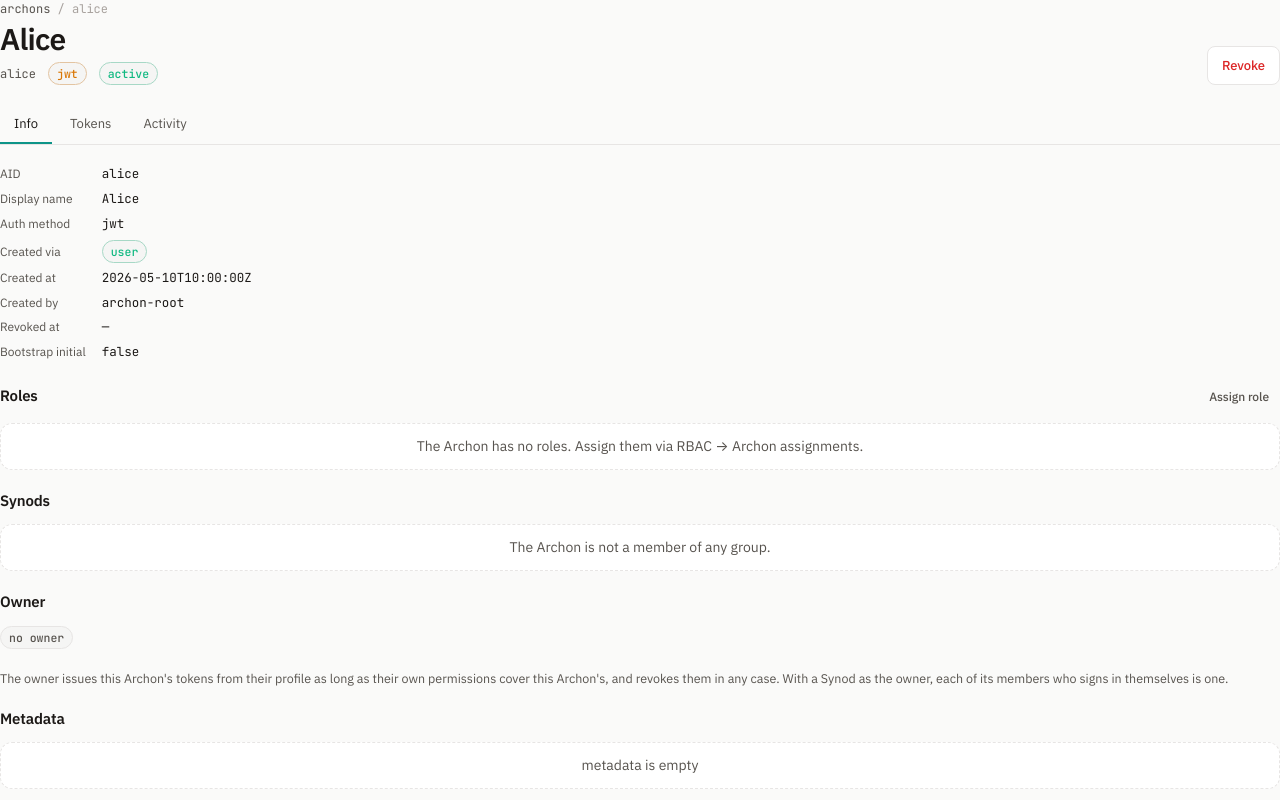
Operator card → Tokens › lists every kind of the operator’s tokens, sign-ins included, and revokes one
This screenshot has width=1280, height=800.
What coordinates should you click on to do the following:
click the tab with test id "archon-tab-tokens"
I would click on:
 (91, 125)
Its box is top-left (56, 105), bottom-right (125, 144).
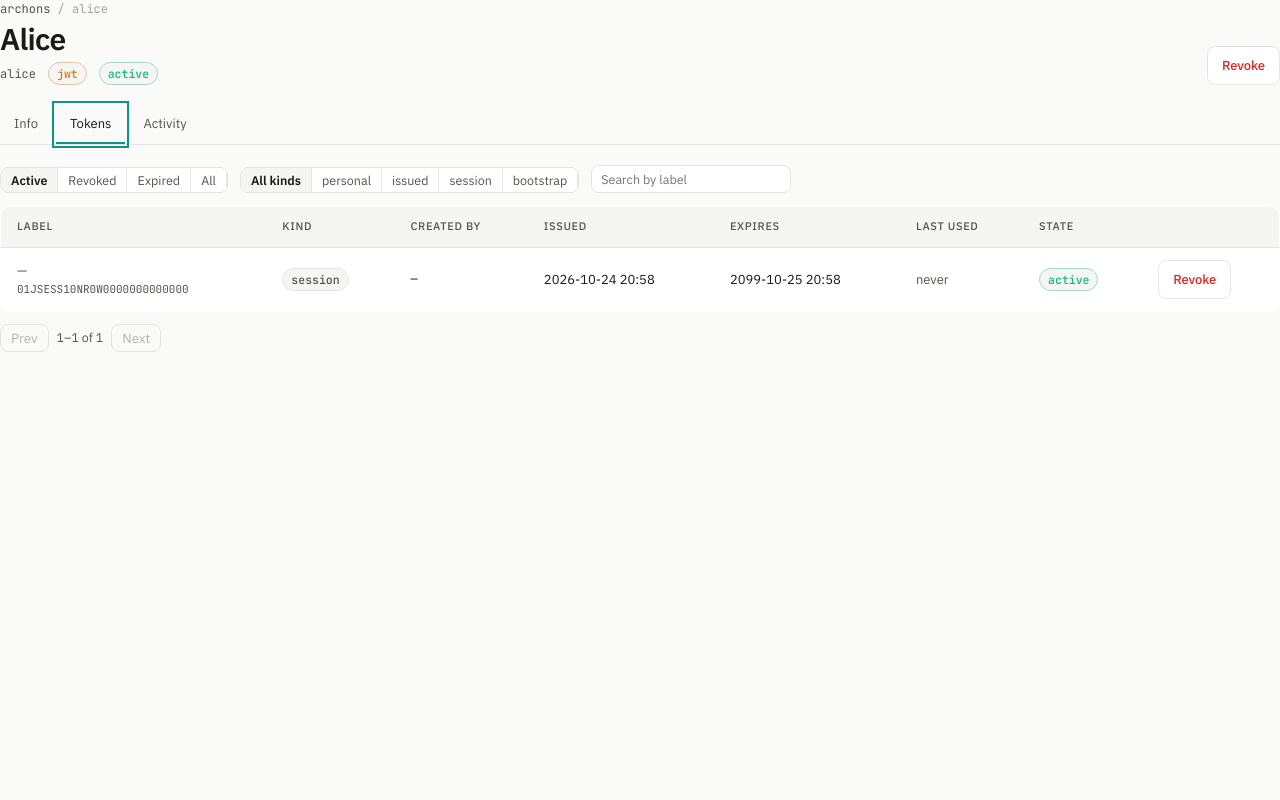
What coordinates should you click on to do the following:
click the button "Revoke" in the row of "01JSESS10NR0W0000000000000"
I would click on:
 (1195, 279)
Its box is top-left (1158, 260), bottom-right (1231, 299).
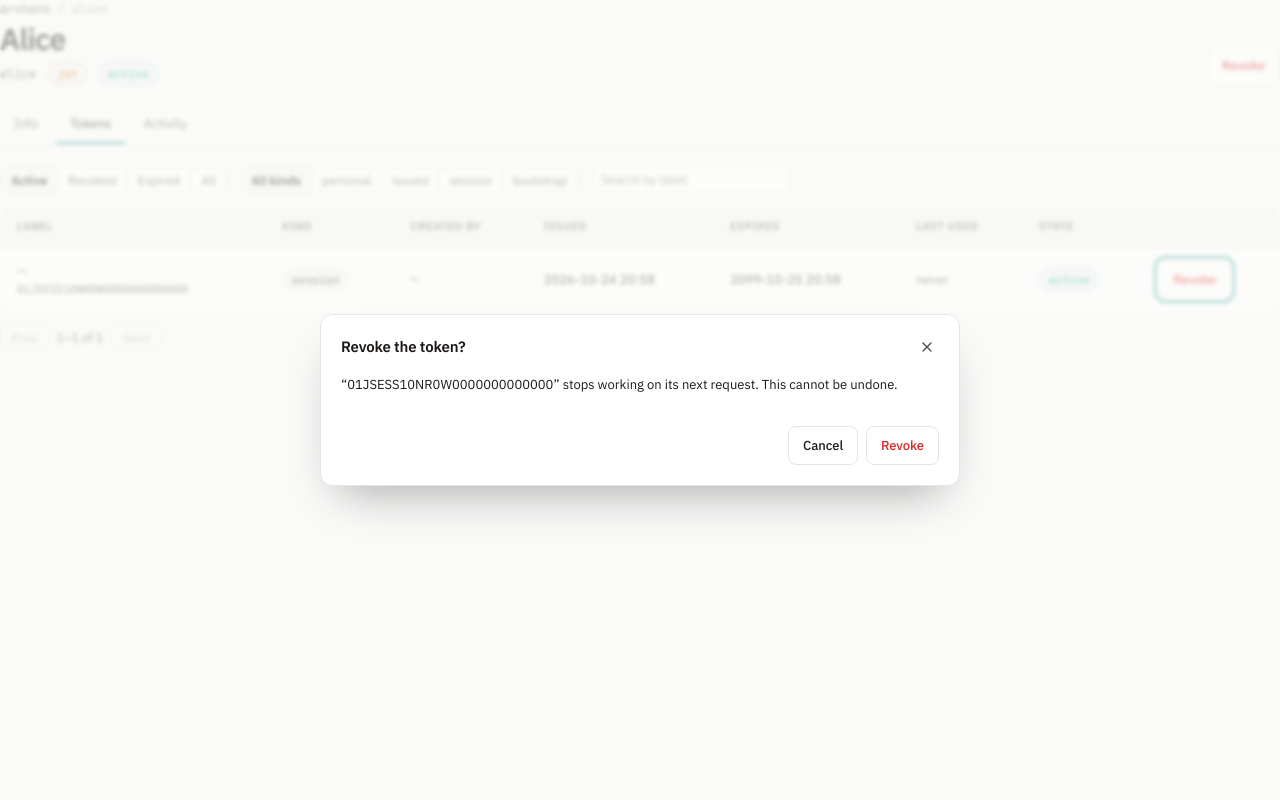
What coordinates should you click on to do the following:
click the button with test id "jwt-revoke-confirm"
I would click on:
 (902, 446)
Its box is top-left (866, 426), bottom-right (939, 465).
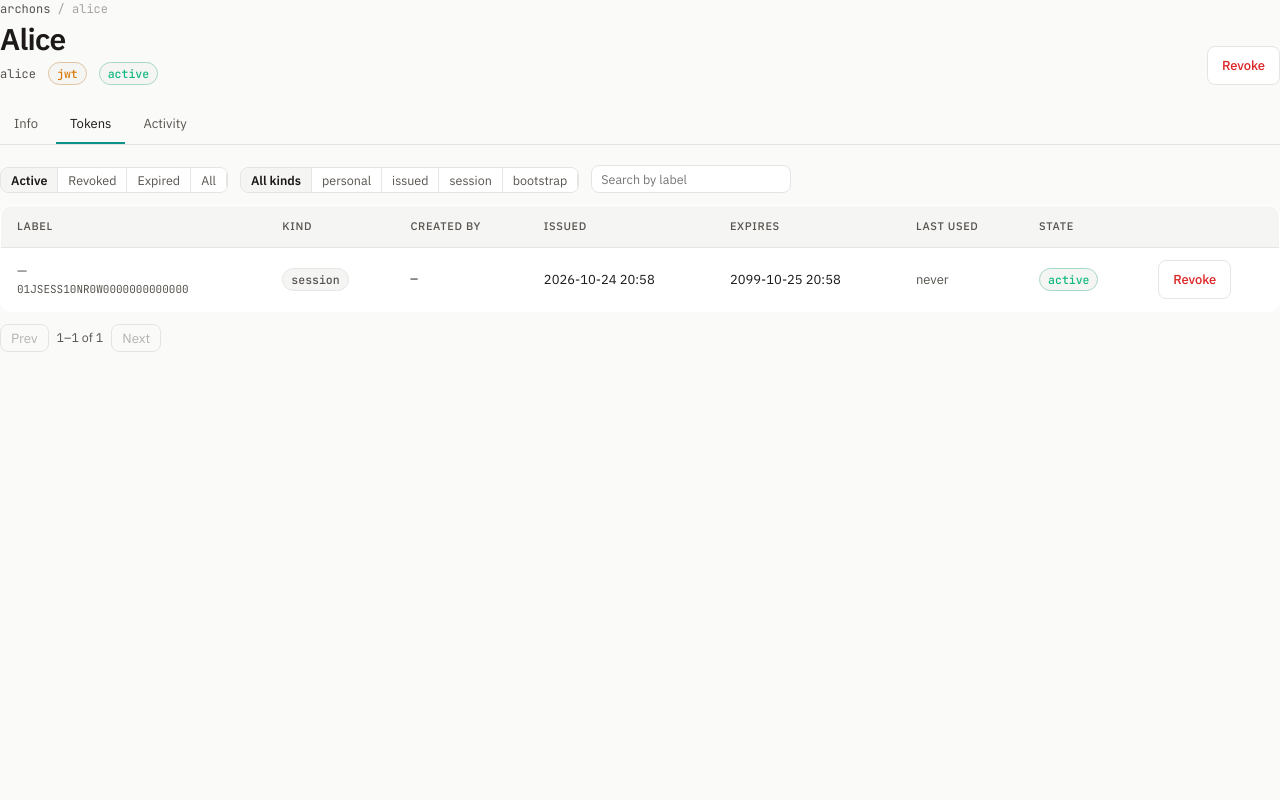
Now the button with test id "jwt-revoke-confirm" is gone
